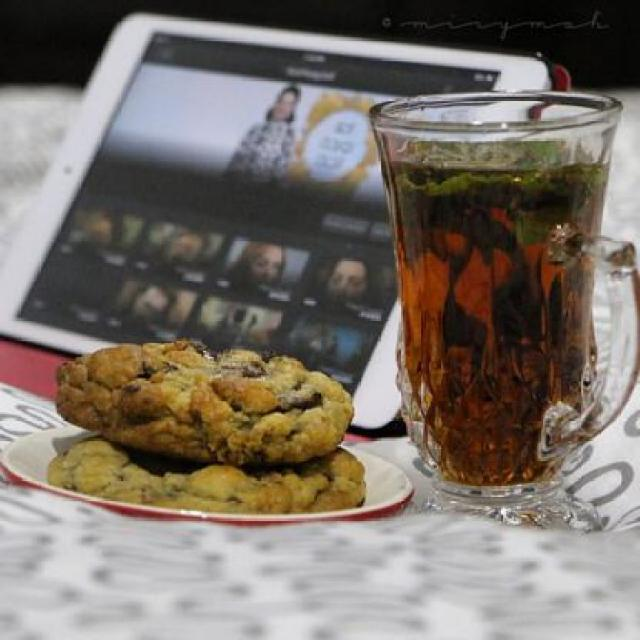Cookie: (57, 333, 366, 479), (43, 436, 366, 510)
